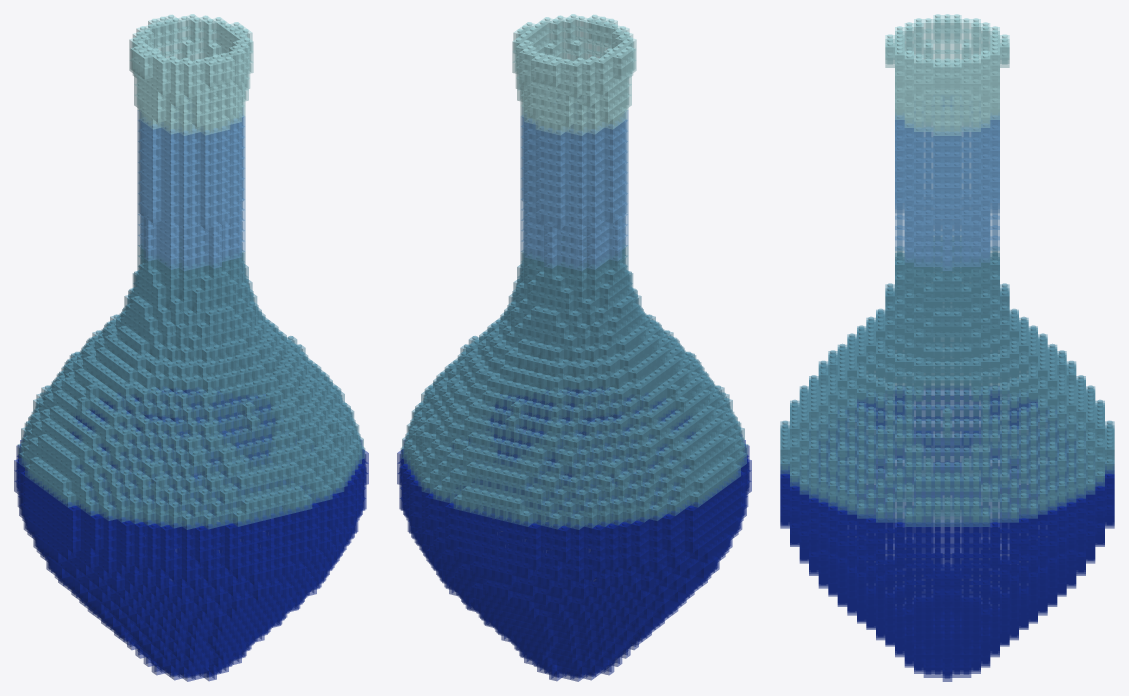
File: 004-generated_vase.glb
3 views of the same model, side by side, from view 1: azimuth 30°, elevation 25°; view 2: azimuth 150°, elevation 25°; view 3: azimuth 270°, elevation 25° (orthographic).
Size of the model in its own units: 0.28 by 0.5776 by 0.28.
